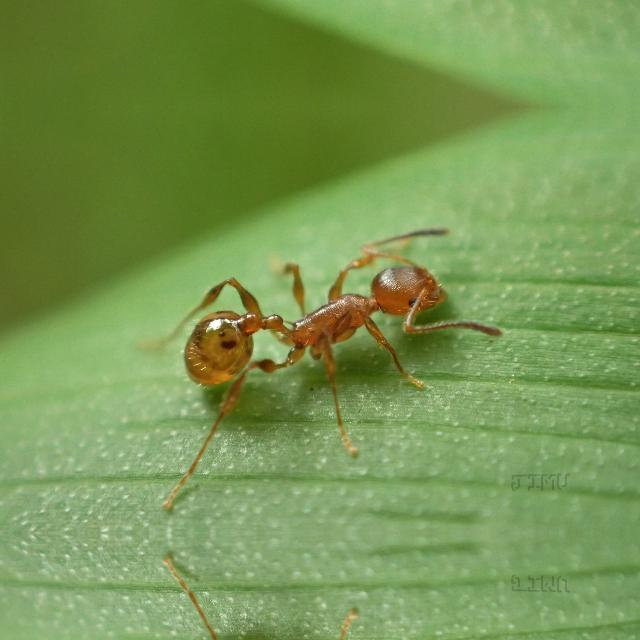Temnothorax: (144, 230, 484, 418)
